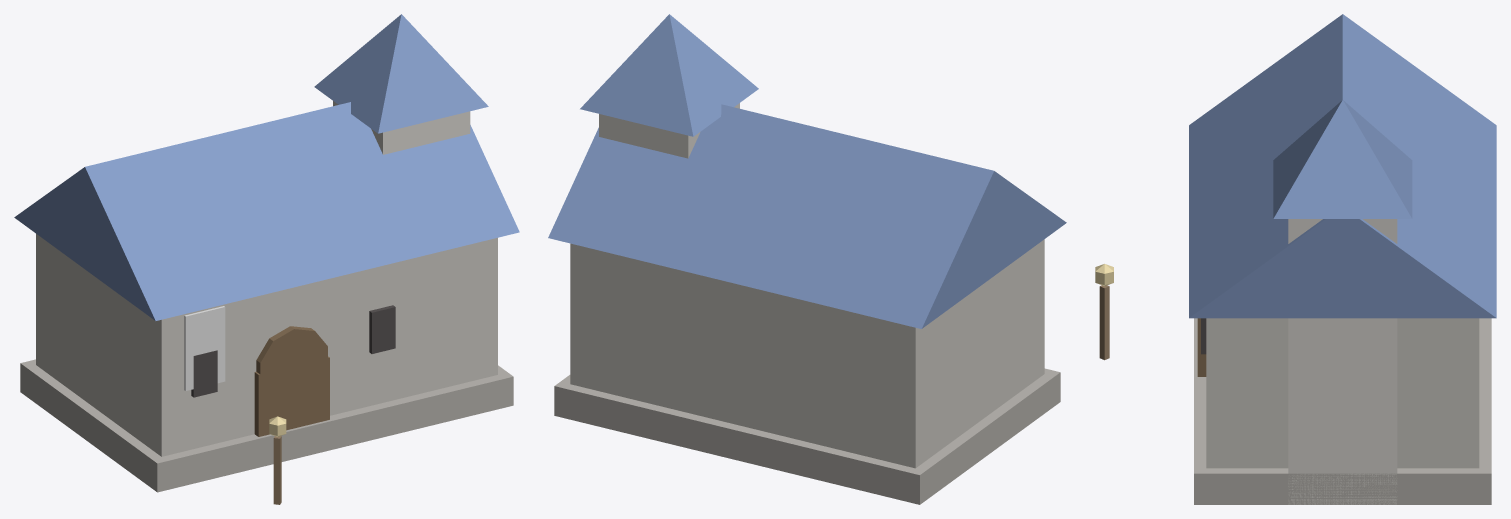
3 renders of one model, left to right at view 1: azimuth 30°, elevation 25°; view 2: azimuth 150°, elevation 25°; view 3: azimuth 270°, elevation 25°, orthographic. The views are drawn at different scales.
Parts seen in each view (by area): view 1: body; view 2: body; view 3: body.
Boxes of the visible parts, x1,y1,x2,y2 form: body: [14, 14, 519, 504]; body: [548, 14, 1066, 504]; body: [1095, 14, 1496, 504].
Size of the model in its own units: 9.4 by 8.5 by 8.09.
